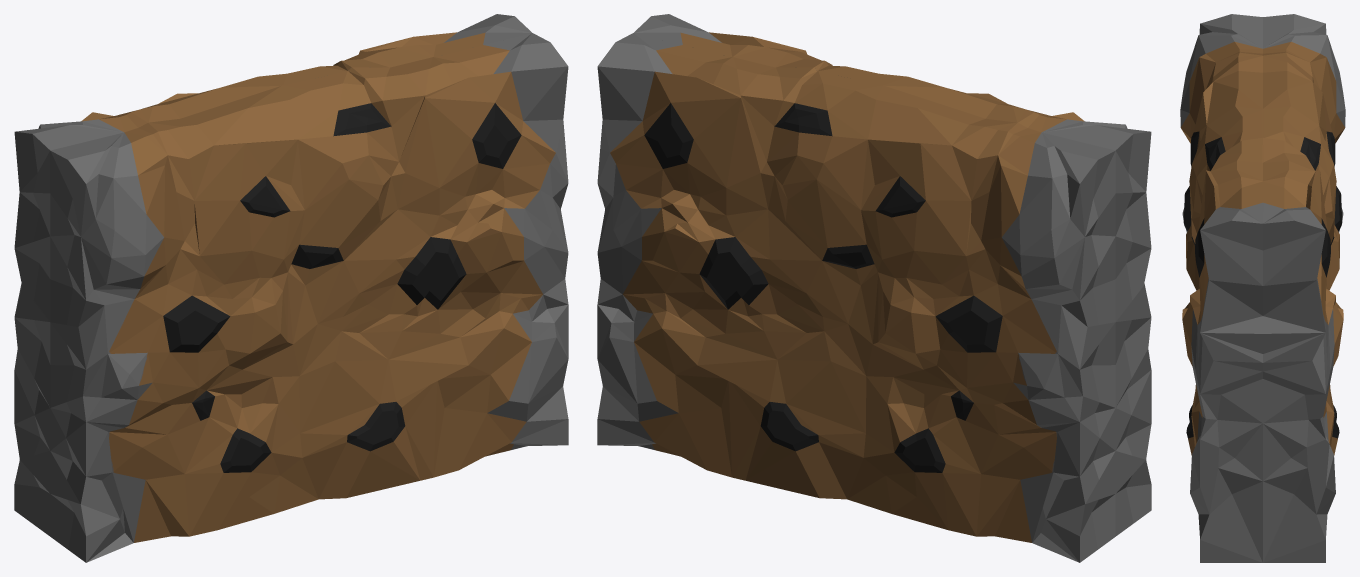
Rendered from Walls02.fbx.
3 renders of one model, left to right at view 1: azimuth 30°, elevation 25°; view 2: azimuth 150°, elevation 25°; view 3: azimuth 270°, elevation 25°, orthographic. The views are drawn at different scales.
Parts seen in each view (by area): view 1: rock.ver03.002; view 2: rock.ver03.002; view 3: rock.ver03.002.
Part boxes in pixels (<box>): rock.ver03.002: <box>14,14,568,562</box>; rock.ver03.002: <box>597,14,1151,562</box>; rock.ver03.002: <box>1180,14,1345,562</box>.
Bounding box in the file's own units: 287 × 96.91 × 225.
1 material, 1 textured.
